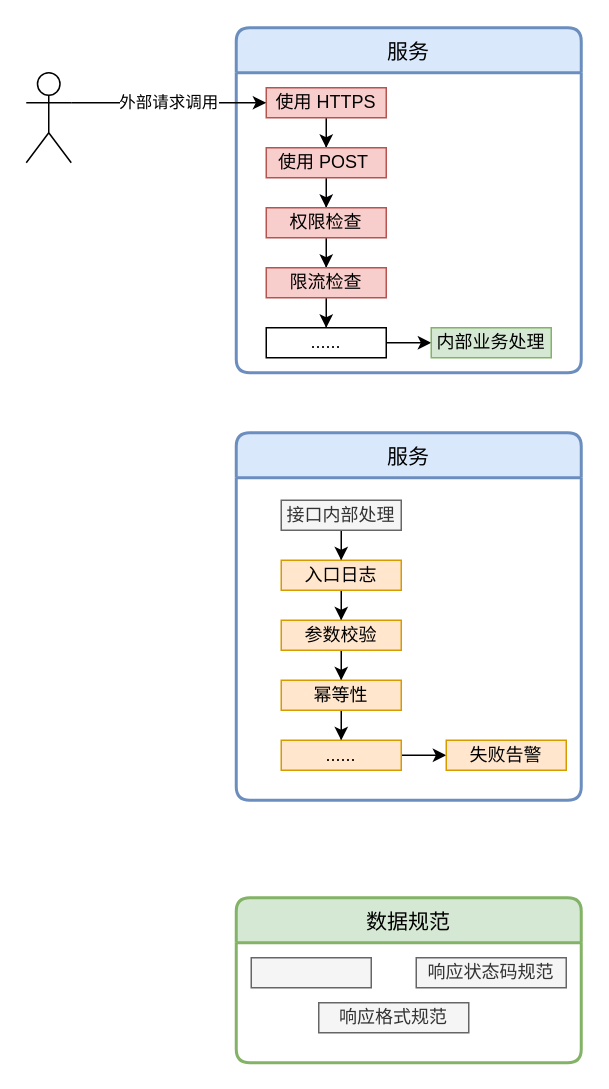
Image size: 609x1089. Some labels were removed from this diagram. Here are the shapes that lost their labels. From the top down, the centre of each, then its label:
At point 48,117: "Actor".
At point 310,972: "接口版本控制".
